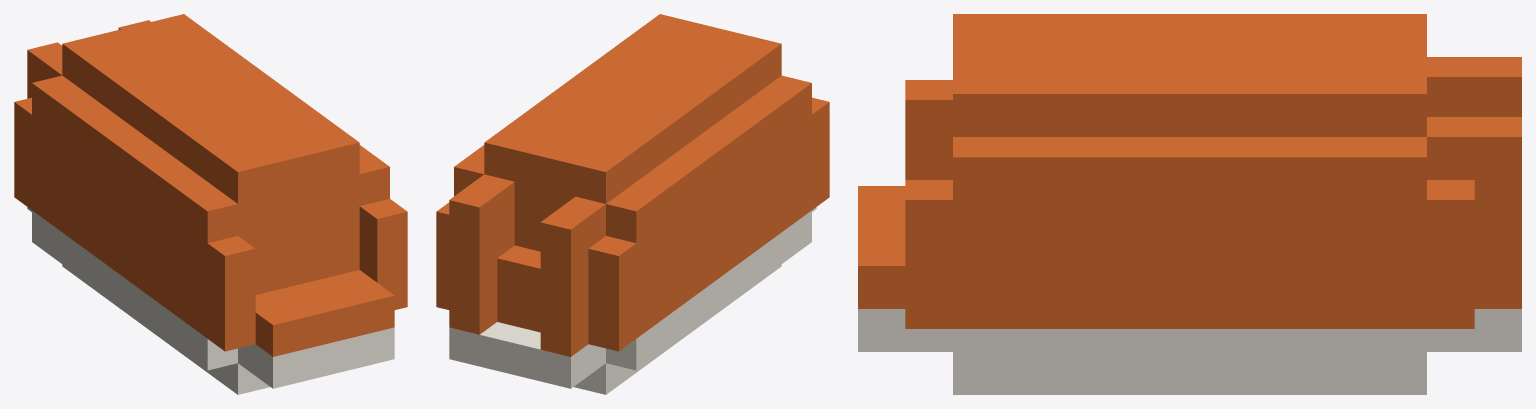
Rendered from fox__body.glb.
The picture shows the model from 3 angles, left to right: view 1: azimuth 30°, elevation 25°; view 2: azimuth 150°, elevation 25°; view 3: azimuth 270°, elevation 25°; orthographic projection. The views are drawn at different scales.
Parts seen in each view (by area): view 1: fox__body; view 2: fox__body; view 3: fox__body.
Part boxes in pixels (<box>): fox__body: <box>14,14,407,394</box>; fox__body: <box>436,14,829,394</box>; fox__body: <box>858,14,1521,394</box>.
Bounding box in the file's own units: 0.6 × 0.7 × 1.4.
1 material, 1 textured.
